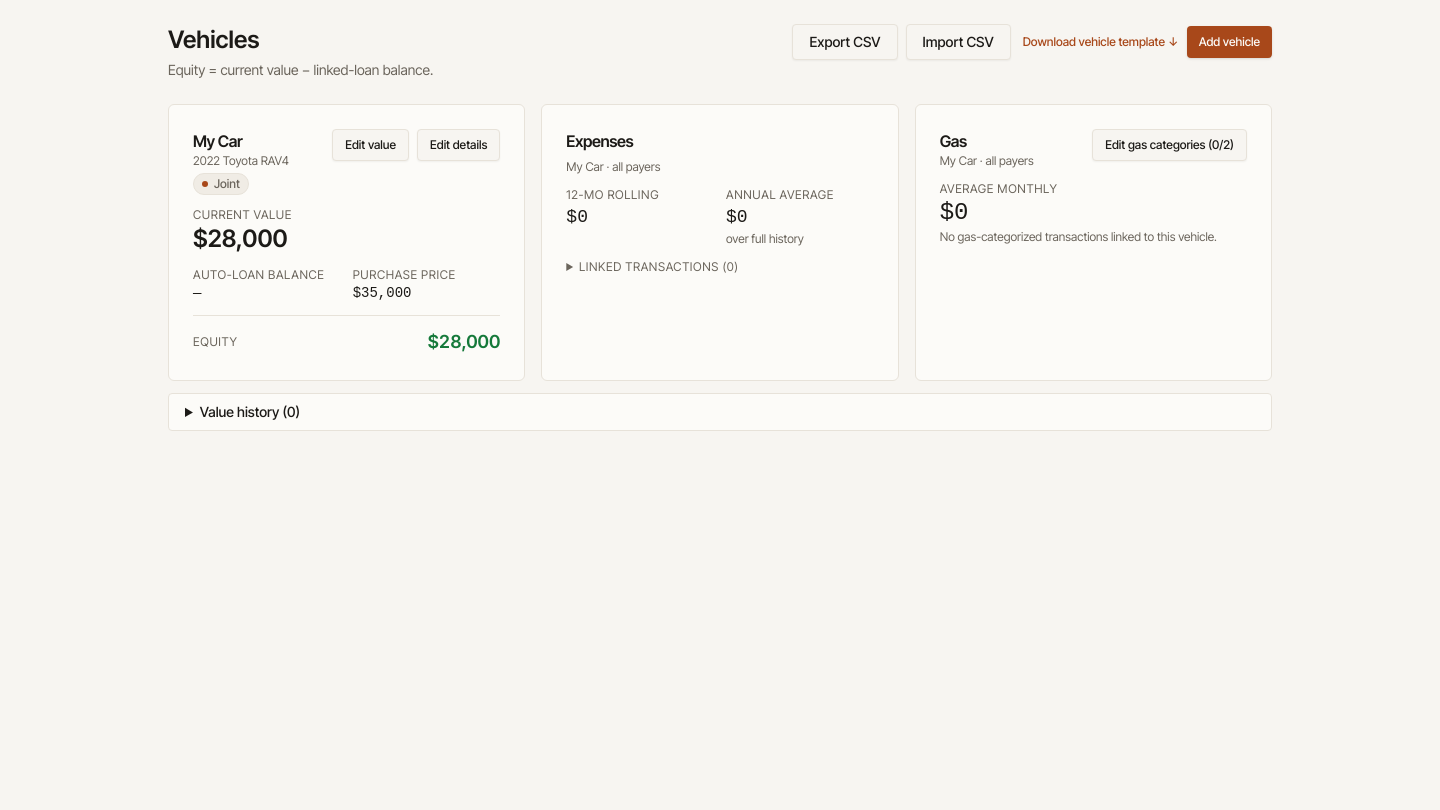
Vehicles page › vehicle drawer delete confirms with the tab's exact copy (W14)
Click the button with aria-label "edit details for my car" at (459, 145), box [417, 129, 500, 161]
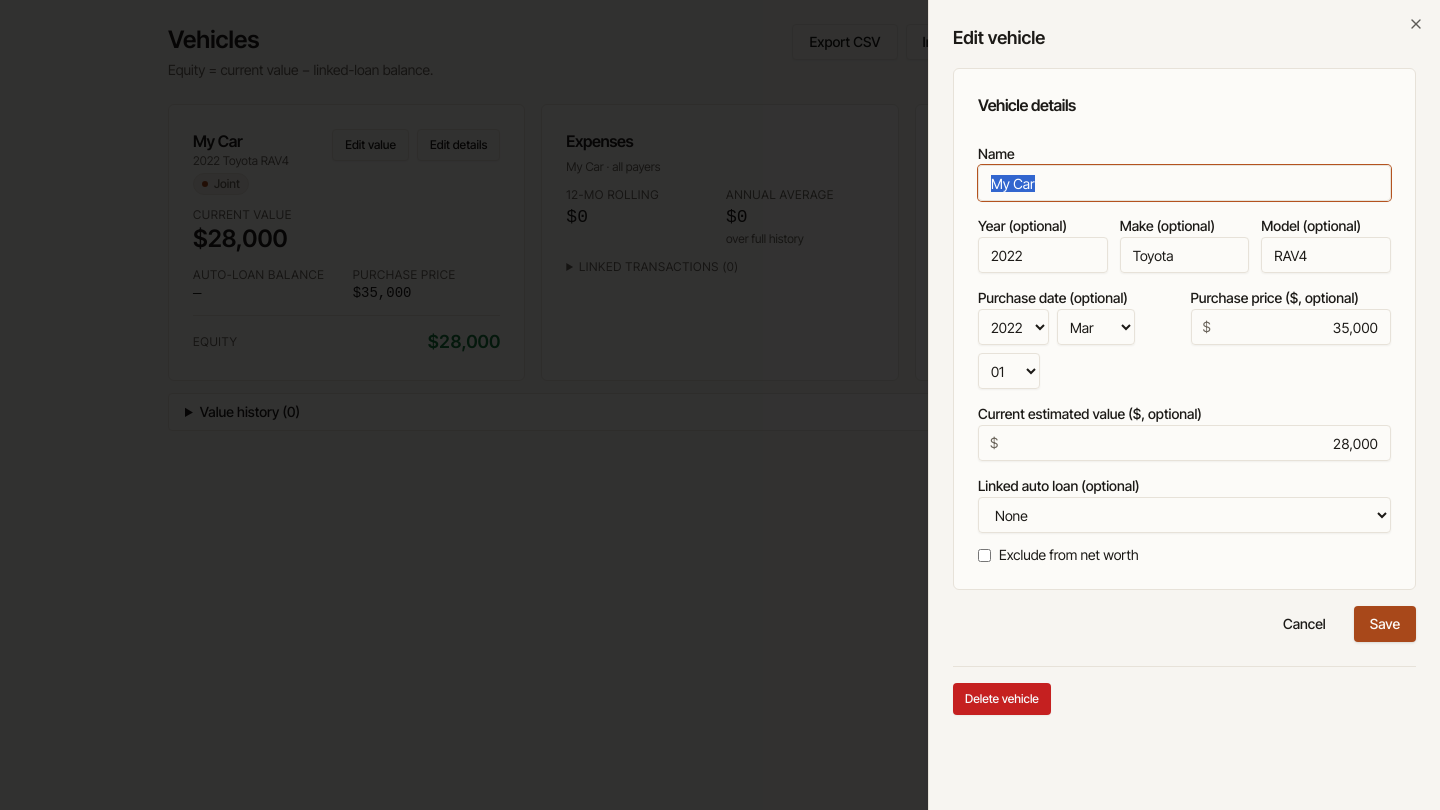
Click the button "Delete vehicle" at (1002, 699), box [953, 683, 1051, 715]
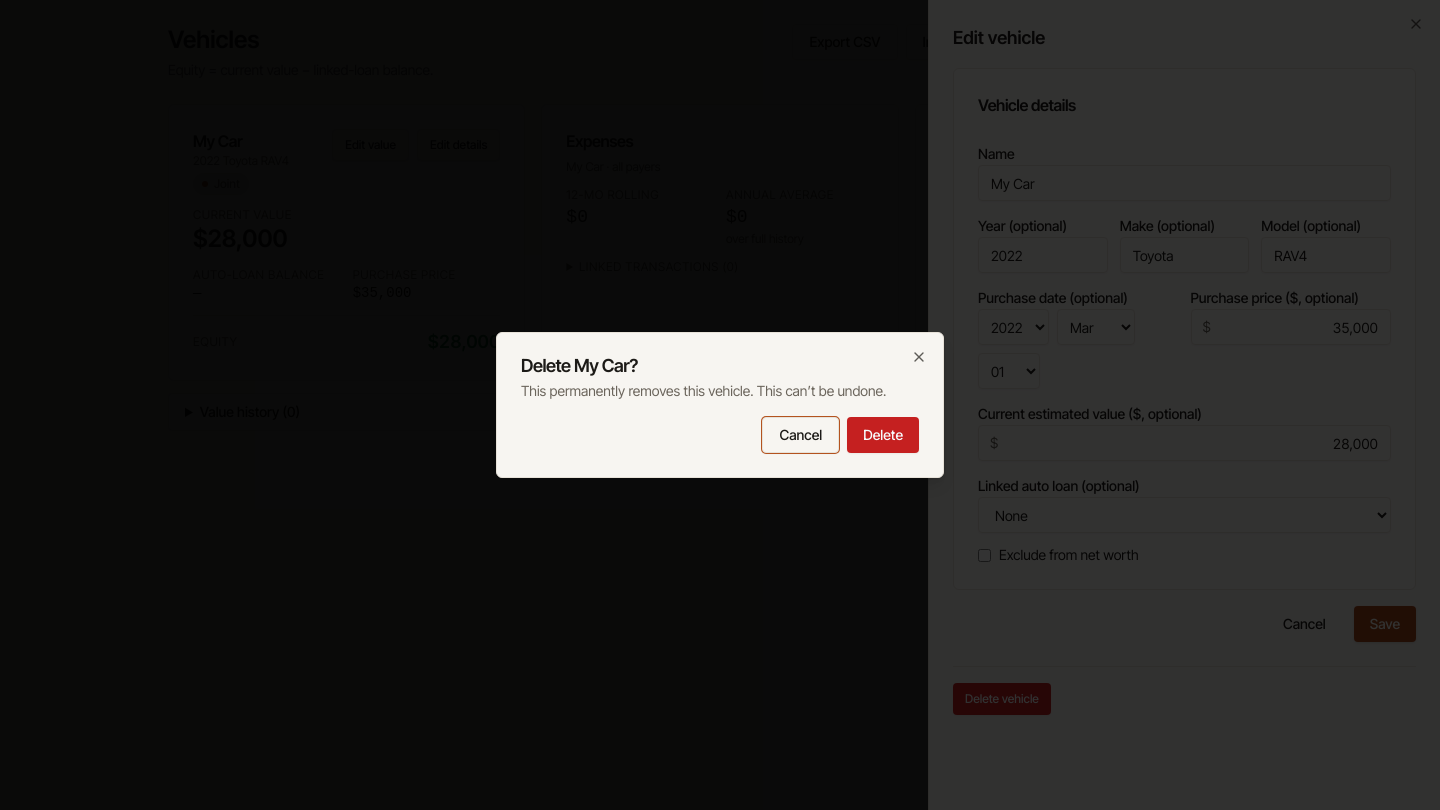
Expected: the text "This permanently removes this vehicle. This can’t be undone." is shown, [521, 381, 919, 401]
